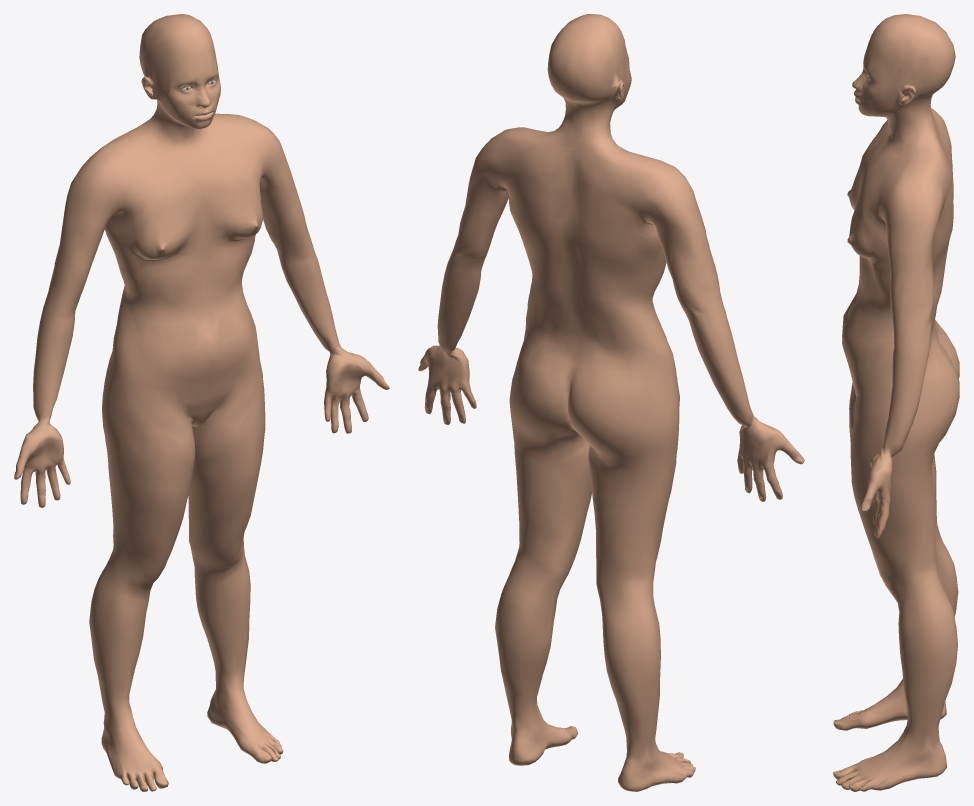
The model's file is mh-skin-female.glb.
3 views of the same model, side by side, from view 1: azimuth 30°, elevation 25°; view 2: azimuth 150°, elevation 25°; view 3: azimuth 270°, elevation 25° (orthographic). The views are drawn at different scales.
Visible parts, largest first — view 1: skin_body_female; view 2: skin_body_female; view 3: skin_body_female.
Part boxes in pixels (bbox=[...]): skin_body_female: bbox=[14, 14, 389, 791]; skin_body_female: bbox=[418, 14, 804, 791]; skin_body_female: bbox=[833, 14, 959, 791].
Bounding box in the file's own units: 0.8846 × 1.67 × 0.2584.
